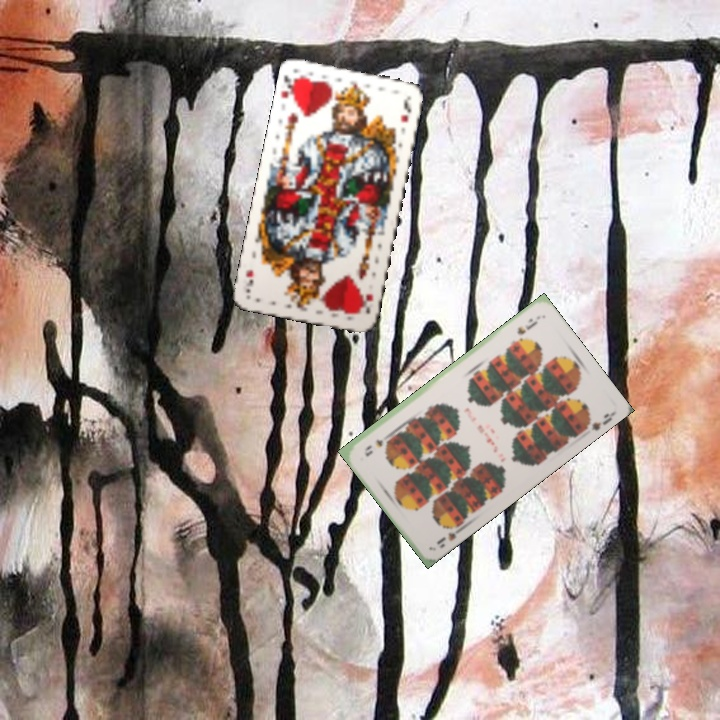HK: (277, 71, 301, 106), (358, 289, 376, 316)
S9: (432, 521, 467, 547), (513, 314, 536, 337)
